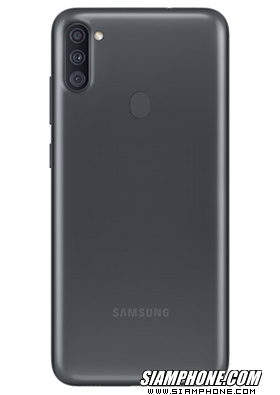Phone: (46, 6, 232, 388)
